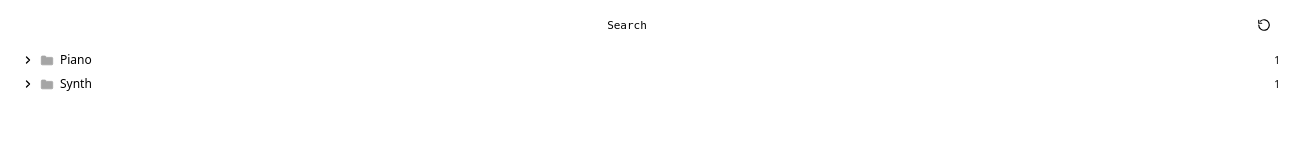
it: the Instruments page › lists instruments only, by category, searched the same way
The width and height of the screenshot is (1304, 160).
Expected: the element named "Instruments" shows "Piano", [12,48,1292,72]
Expected: the element named "Instruments" shows "Synth", [12,72,1292,96]
Type "tidewater" into the search field named "Search instruments" at (633, 26), box [24,16,1242,36]
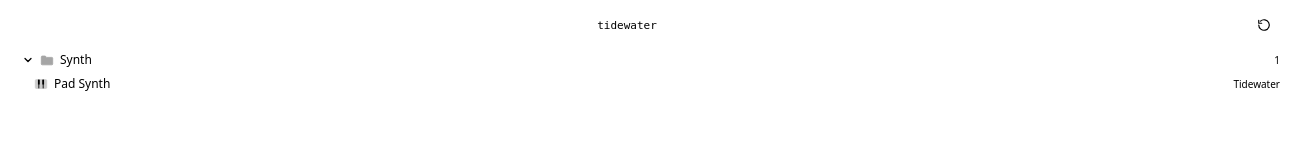
Now the text "Pad Synth" is shown, box [54,76,110,92]
Replace the text in the search field named "Search instruments" with "verb" at (633, 26), box [24,16,1242,36]
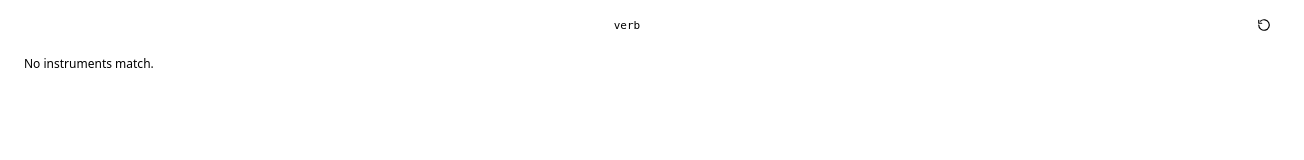
Now the text "No instruments match." is shown, box [24,55,154,72]
